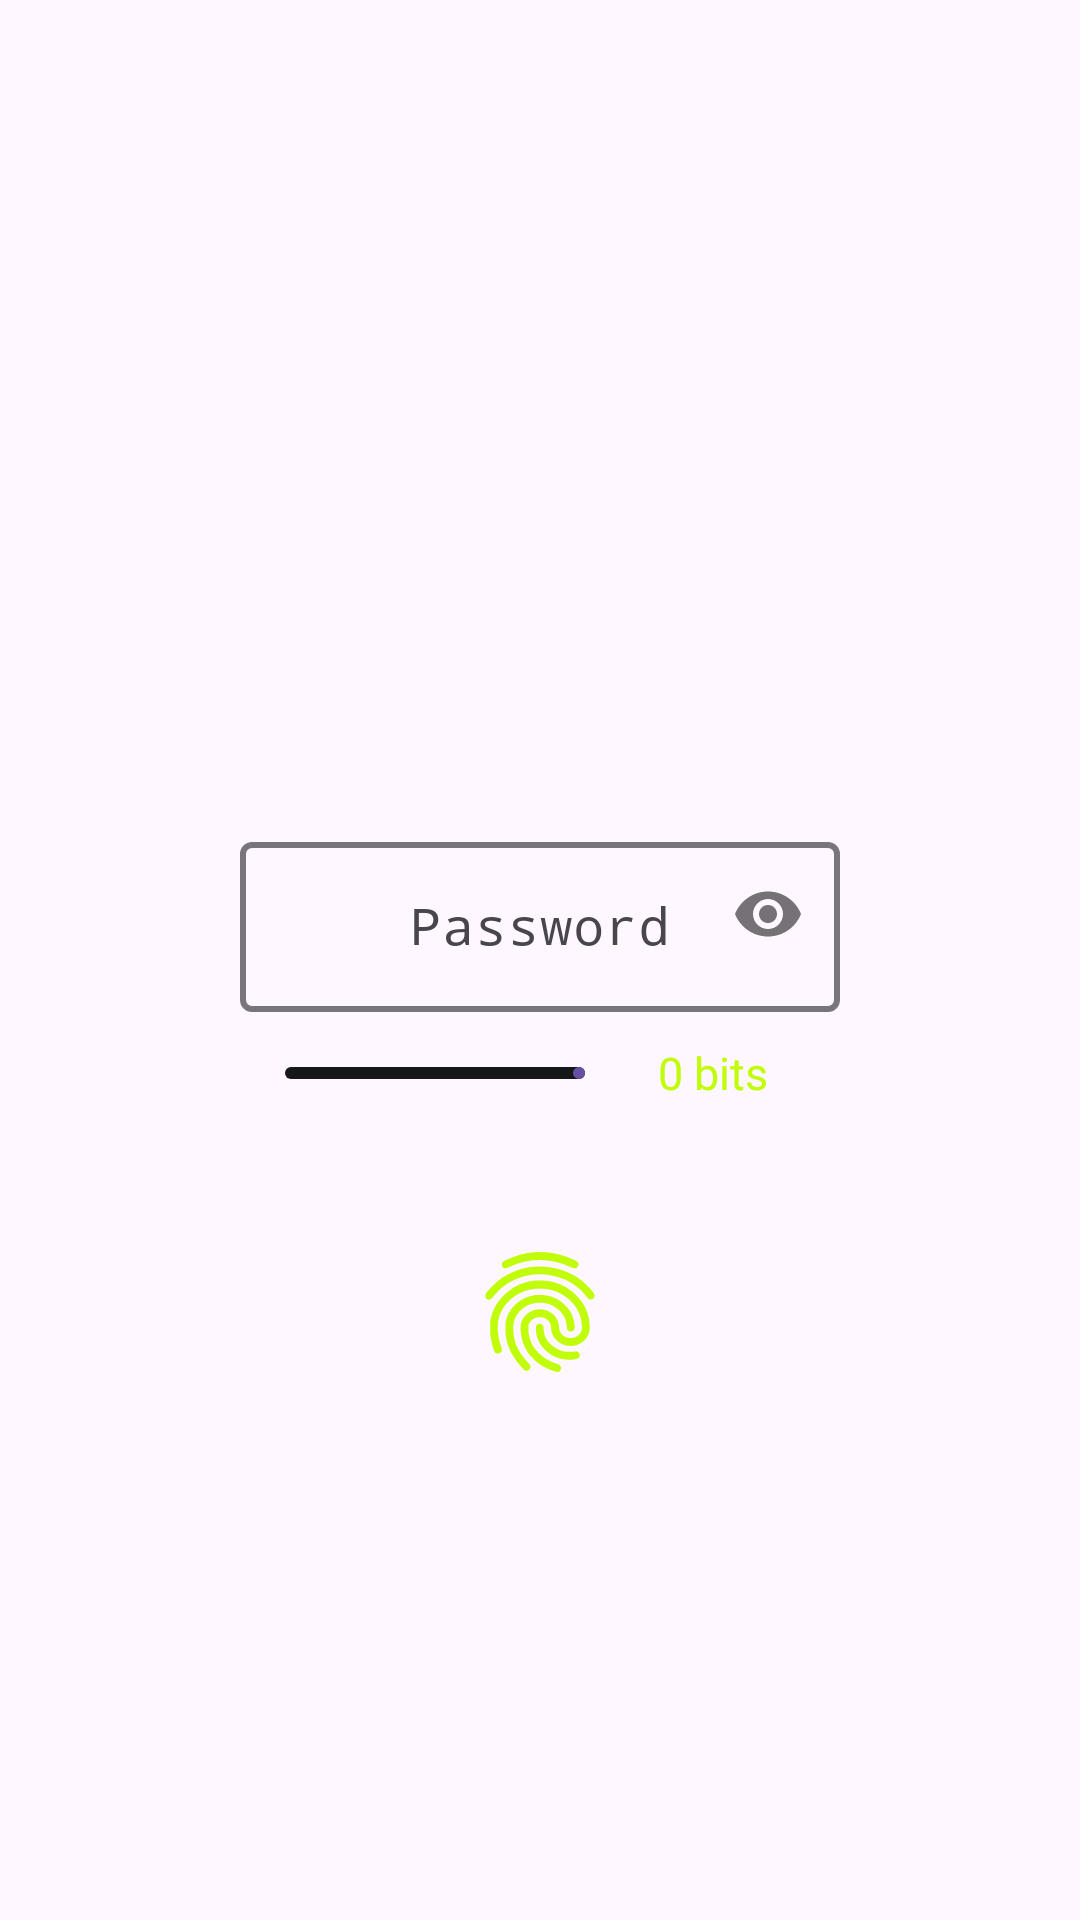

Screen size 1080 × 1920. Icon name, then its center in pixels as (x,y):
fingerprint: (540,1312)
